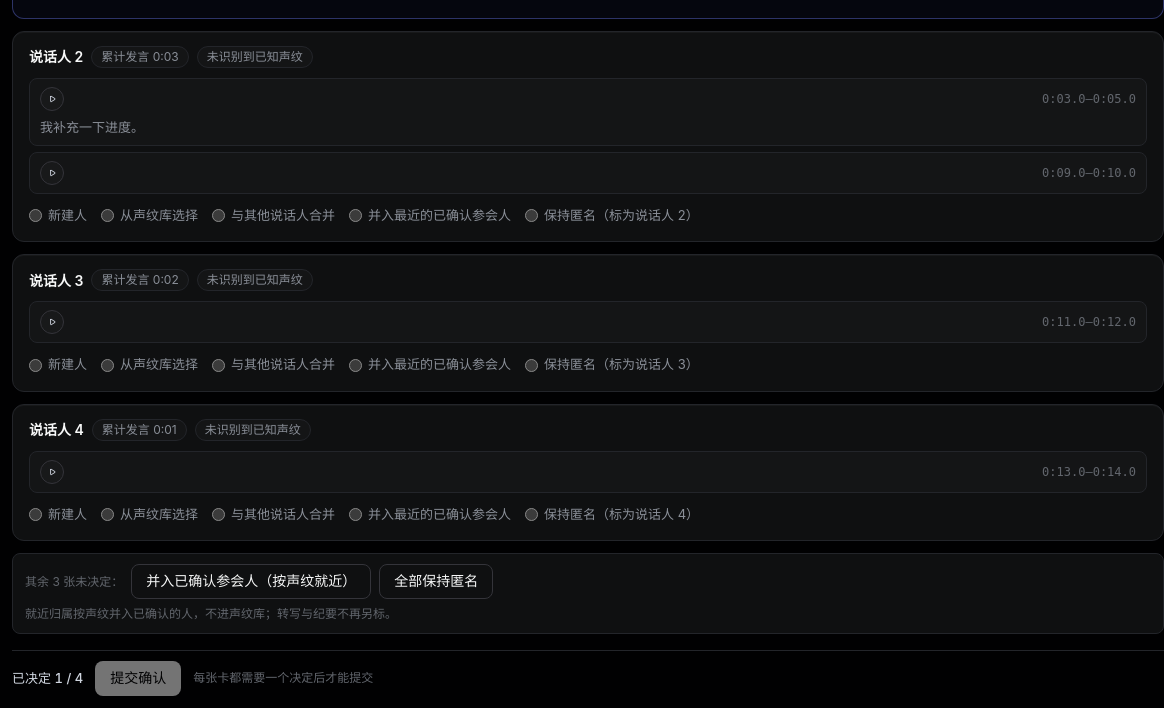
Test case: 说话人确认卡 › 尾簇批量栏：全部保持匿名触发未确认提示
The image size is (1164, 708).
(page scrolled)
Click the button "全部保持匿名" at coordinates (436, 582), box [379,564,493,599]
(page scrolled)
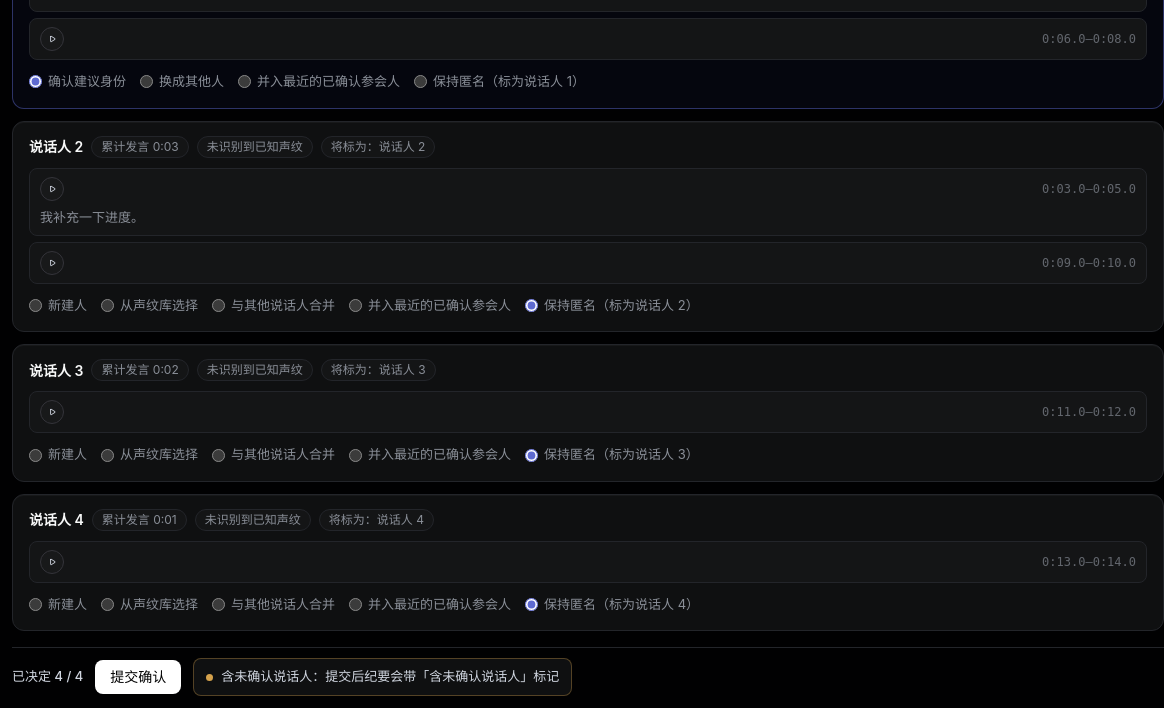
Check: the text "含未确认说话人：提交后纪要会带「含未确认说话人」标记" is shown, box [193,658,572,696]
Check: the button "提交确认" is enabled, box [95,660,181,694]
